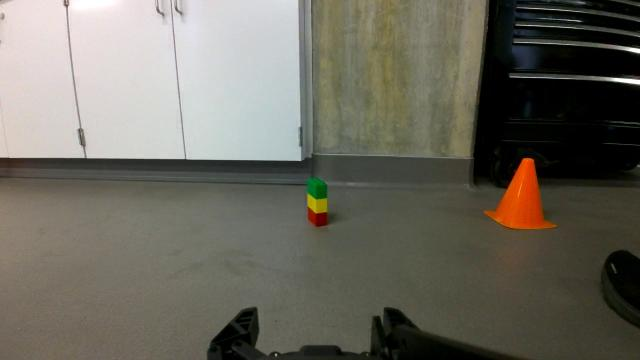lego: (304, 172, 335, 232)
